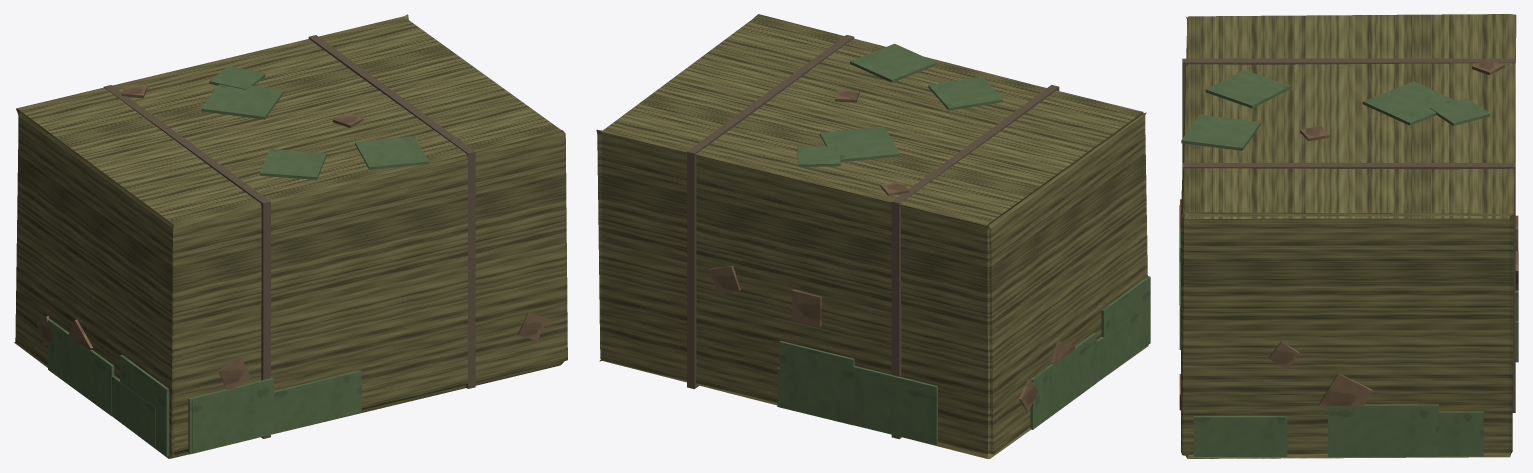
File: bale_swamp.glb
3 views of the same model, side by side, from view 1: azimuth 30°, elevation 25°; view 2: azimuth 150°, elevation 25°; view 3: azimuth 270°, elevation 25° (orthographic). The views are drawn at different scales.
Visible parts, largest first — view 1: BaleSwamp; view 2: BaleSwamp; view 3: BaleSwamp.
Part boxes in pixels (x1,y1,x2,y2): BaleSwamp: (14, 14, 567, 458); BaleSwamp: (596, 14, 1150, 458); BaleSwamp: (1179, 14, 1518, 458).
Size of the model in its own units: 1.31 by 0.7479 by 0.9207.
4 materials, 3 textured.
